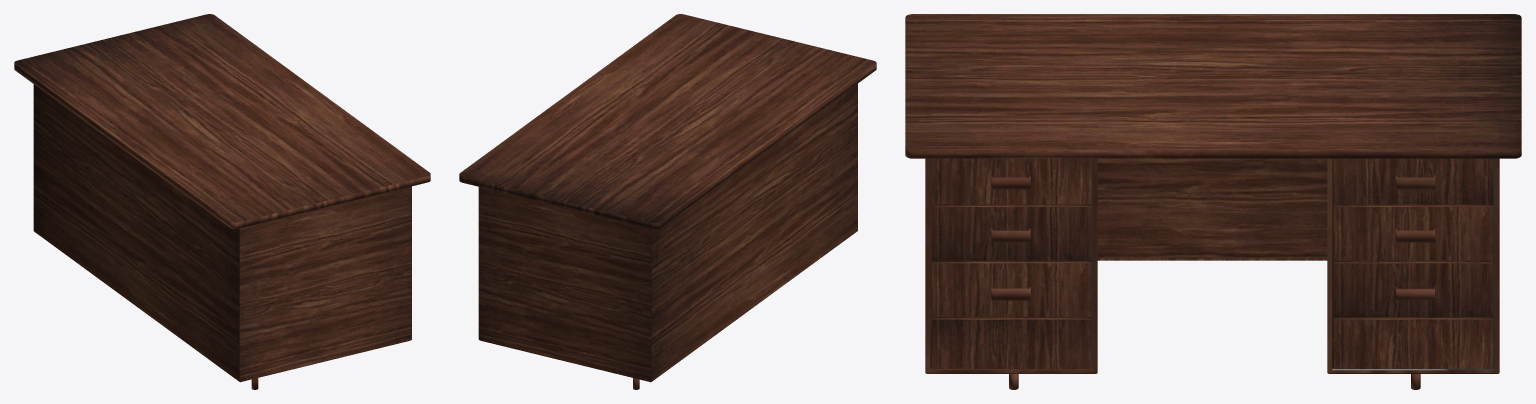
File: Warden_Table.fbx
3 views of the same model, side by side, from view 1: azimuth 30°, elevation 25°; view 2: azimuth 150°, elevation 25°; view 3: azimuth 270°, elevation 25° (orthographic). The views are drawn at different scales.
Parts seen in each view (by area): view 1: Warden_Table; view 2: Warden_Table; view 3: Warden_Table.
Part boxes in pixels (x1,y1,x2,y2): Warden_Table: (14, 14, 430, 389); Warden_Table: (459, 14, 876, 389); Warden_Table: (905, 14, 1521, 389).
Size of the model in its own units: 2 by 1.72 by 3.83.
